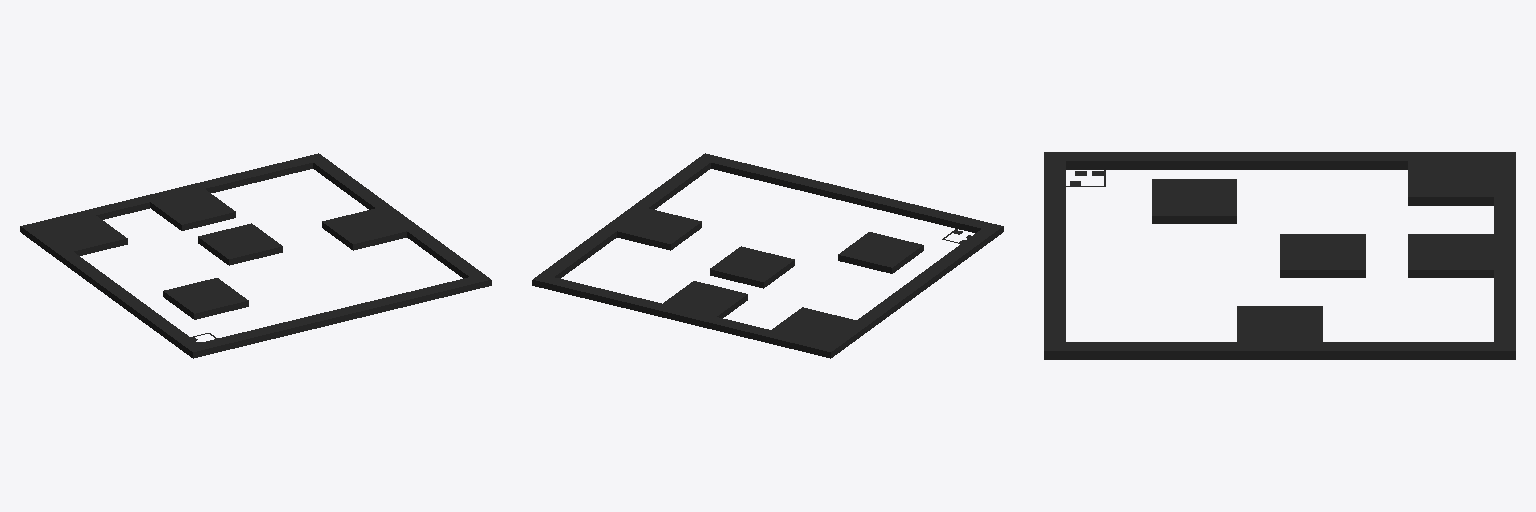
robot.urdf — Room39:
<robot name="Room39">
    <link name="_name">
        <visual> 
            <origin rpy="0.0 0.0 0.0" xyz="-0.4744302209817235 -0.5606542617176956 -0.009999999999999993" />
                <geometry>
                    <mesh filename="Room39/Room39.obj" scale="1 1 0.1" />
                </geometry>

            <material name="black">
                <color rgba="0.2 0.2 0.2 0.95" />
            </material>
        </visual>

       <collision concave="yes" name="collision_0">
            <origin rpy="0.0 0.0 0.0" xyz="-0.4744302209817235 -0.5606542617176956 -0.009999999999999993" />
            <geometry>
                <mesh filename="Room39/Room39_vhacd.obj" scale="1 1 0.1" />
            </geometry>
        </collision>

        <inertial> 
            <mass value="0" />
            <inertia ixx="0" ixy="0" ixz="0" iyy="0" iyz="0" izz="0" />
        </inertial> 
    </link>
</robot>

--- What the picture shows (computed from the rendered views, not written in the file) ---
The picture shows the robot from 3 angles, left to right: view 1: azimuth 30°, elevation 25°; view 2: azimuth 150°, elevation 25°; view 3: azimuth 270°, elevation 25°; orthographic projection.
Robot: Room39 — 1 links, 0 joints (none); root link _name; default pose: every joint at zero.
Visible links, largest first — view 1: _name; view 2: _name; view 3: _name.
Link boxes in pixels (left/top/right/bottom): _name: left=20, top=153, right=491, bottom=358; _name: left=532, top=153, right=1003, bottom=358; _name: left=1044, top=152, right=1515, bottom=359.
Bounding box of the posed robot: 1 × 1 × 0.02 m (x, y, z).
Meshes: 1 distinct files referenced, 1 mesh visuals loaded (1 OBJ).